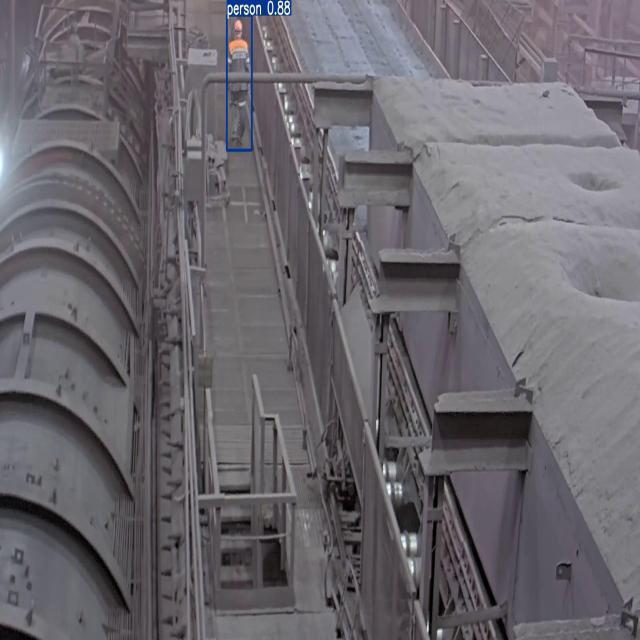safety_helmet: (227, 15, 252, 150)
